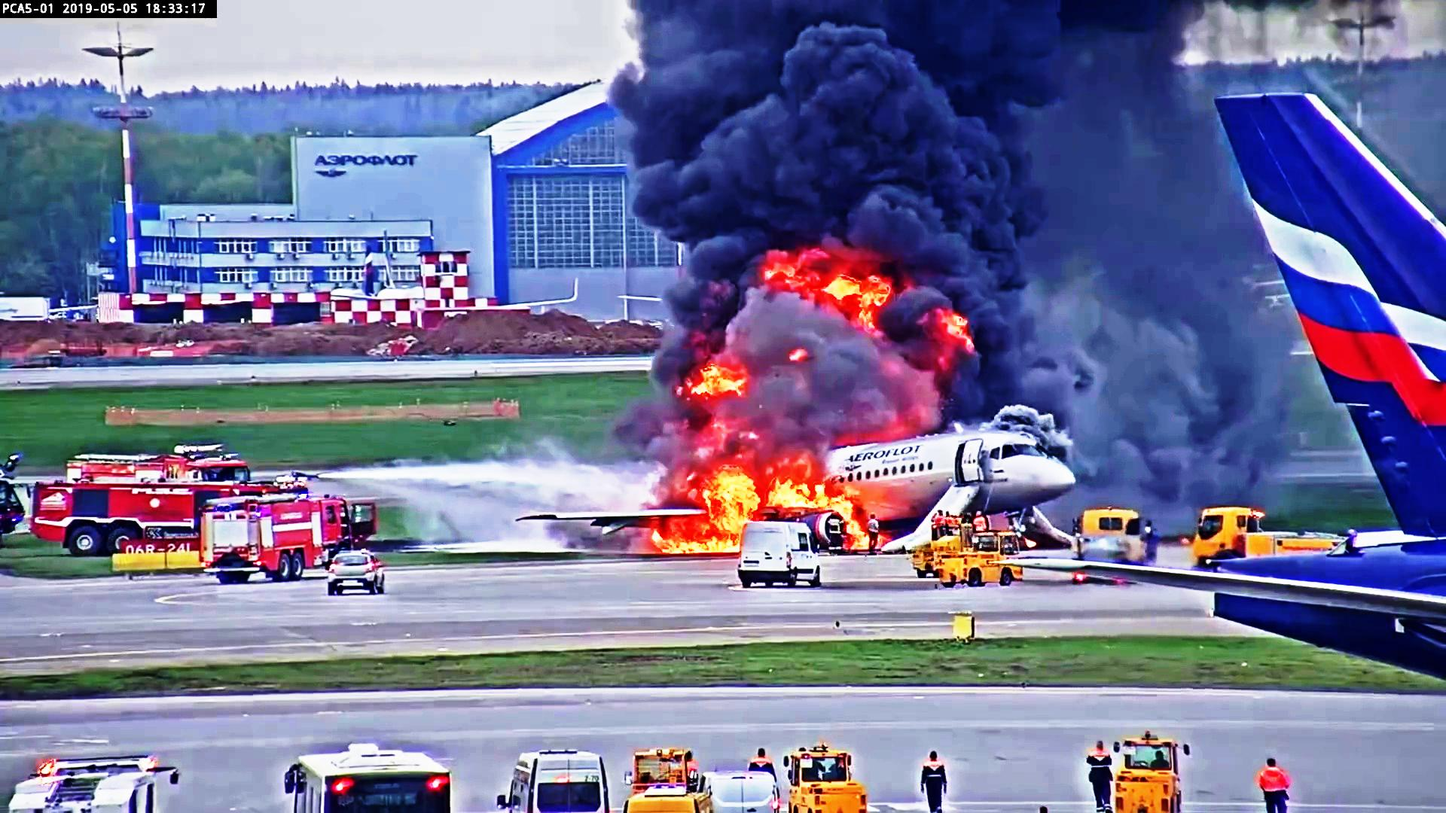fire: (663, 475, 751, 553)
smoke: (657, 2, 1041, 249)
